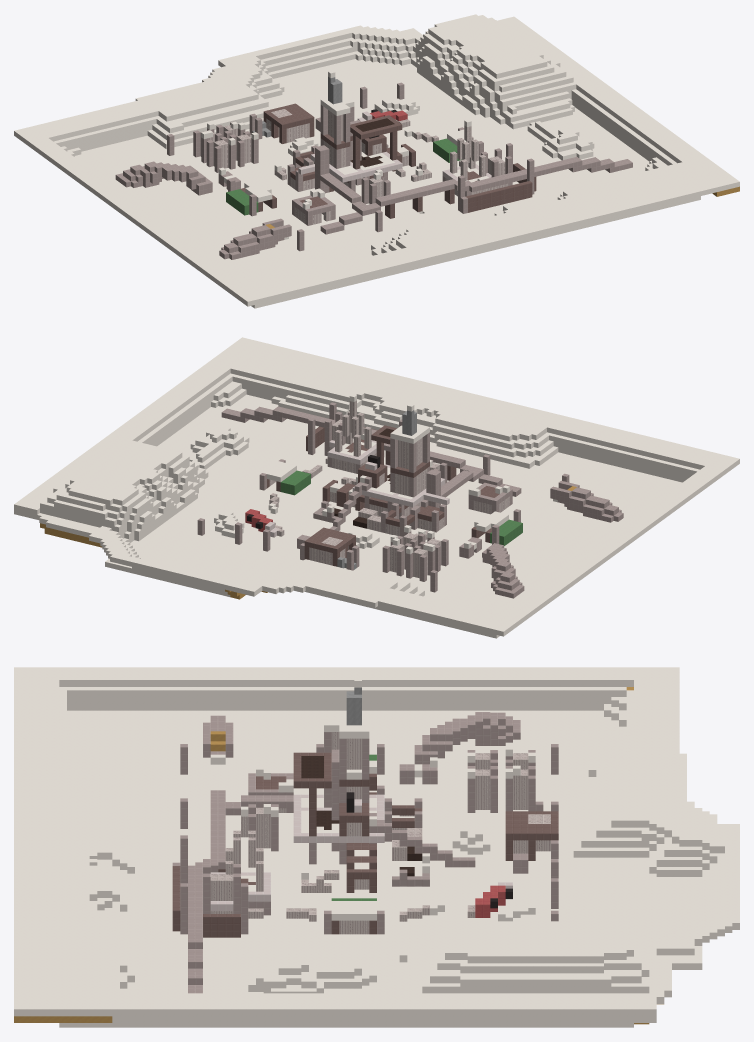
Rendered from rust_clean.glb.
3 renders of one model, top to bottom at view 1: azimuth 30°, elevation 25°; view 2: azimuth 150°, elevation 25°; view 3: azimuth 270°, elevation 25°, orthographic. The views are drawn at different scales.
Visible parts, largest first — view 1: Mesh_0; view 2: Mesh_0; view 3: Mesh_0.
Part boxes in pixels (x1,y1,x2,y2): Mesh_0: (14,14,739,308); Mesh_0: (14,337,739,638); Mesh_0: (14,667,739,1027).
Bounding box in the file's own units: 107 × 24 × 96.
Materials: 32 (15 with a texture image).
